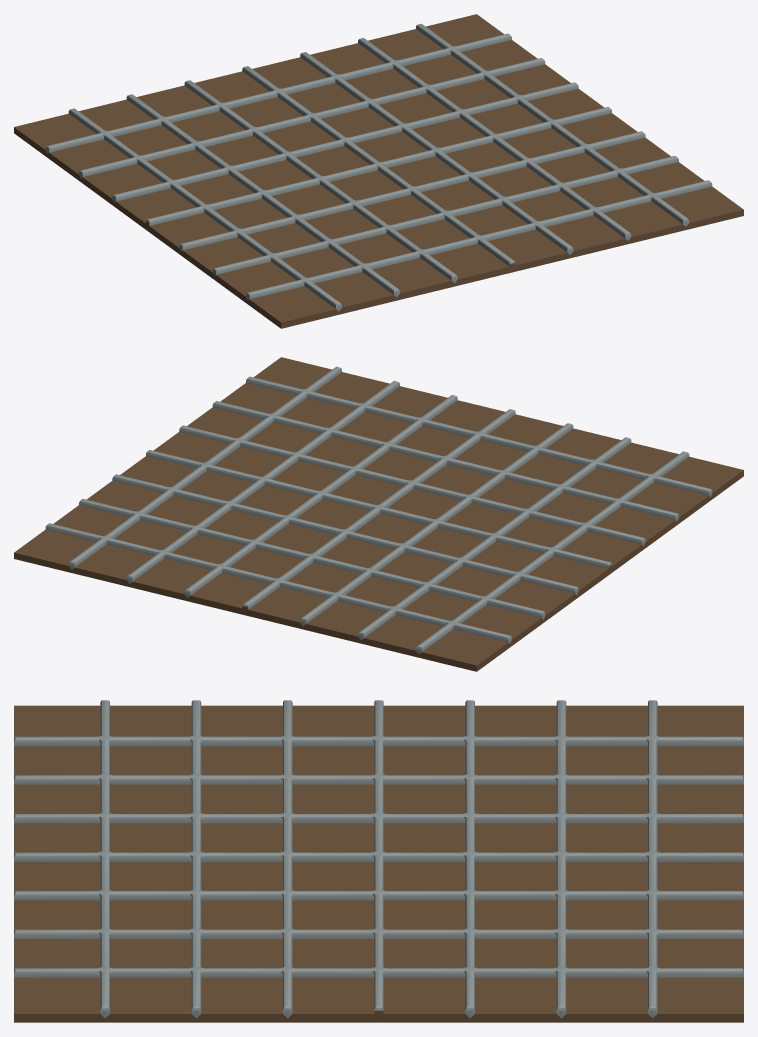
The model's file is garden.fbx.
3 views of the same model, one above another, from view 1: azimuth 30°, elevation 25°; view 2: azimuth 150°, elevation 25°; view 3: azimuth 270°, elevation 25° (orthographic). The views are drawn at different scales.
Parts seen in each view (by area): view 1: Cube; view 2: Cube; view 3: Cube.
Boxes of the visible parts, box(x1,y1,x2,y2) form: Cube: box(14, 14, 743, 328); Cube: box(14, 357, 743, 671); Cube: box(14, 700, 743, 1022).
Bounding box in the file's own units: 200 × 4.64 × 200.
